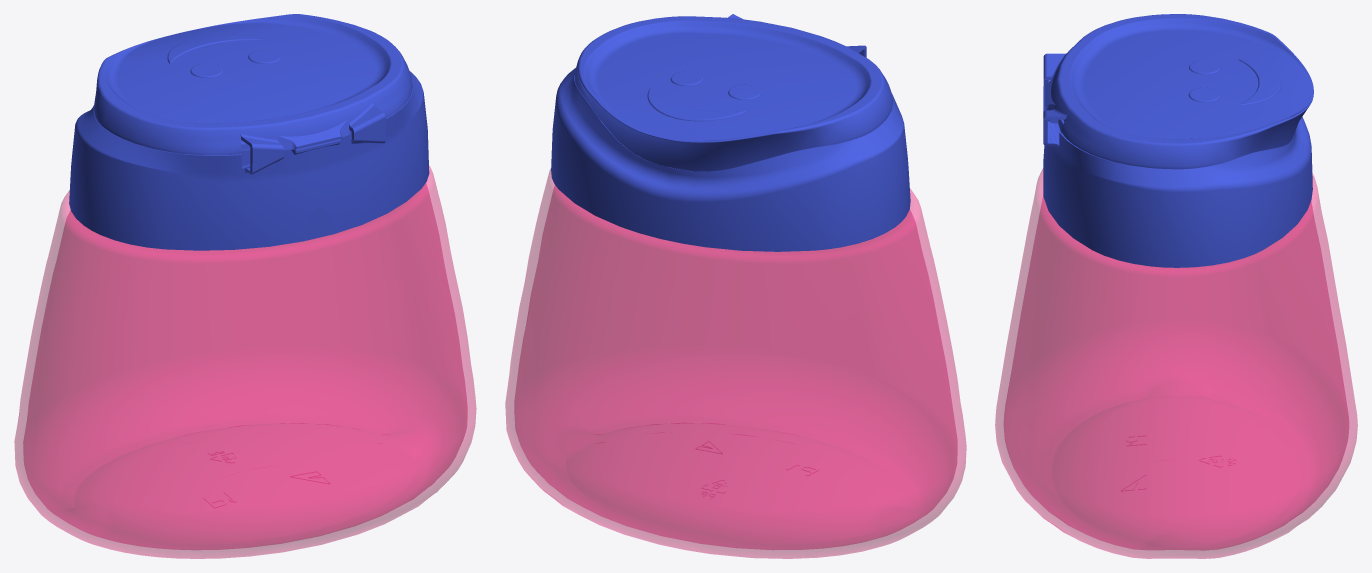
Rendered from asset.glb.
3 renders of one model, left to right at view 1: azimuth 30°, elevation 25°; view 2: azimuth 150°, elevation 25°; view 3: azimuth 270°, elevation 25°, orthographic. The views are drawn at different scales.
Parts seen in each view (by area): view 1: Bravo_Mini_Bottle_28122021, Bravo_Mini_Powder_Closed_23122021; view 2: Bravo_Mini_Bottle_28122021, Bravo_Mini_Powder_Closed_23122021; view 3: Bravo_Mini_Bottle_28122021, Bravo_Mini_Powder_Closed_23122021.
Part boxes in pixels (left/top/right/bottom): Bravo_Mini_Bottle_28122021: left=14, top=165, right=476, bottom=558; Bravo_Mini_Powder_Closed_23122021: left=69, top=14, right=429, bottom=250; Bravo_Mini_Bottle_28122021: left=505, top=169, right=966, bottom=558; Bravo_Mini_Powder_Closed_23122021: left=551, top=14, right=910, bottom=251; Bravo_Mini_Bottle_28122021: left=995, top=169, right=1357, bottom=558; Bravo_Mini_Powder_Closed_23122021: left=1043, top=14, right=1313, bottom=267.
Size of the model in its own units: 21.45 by 20.29 by 16.47.
